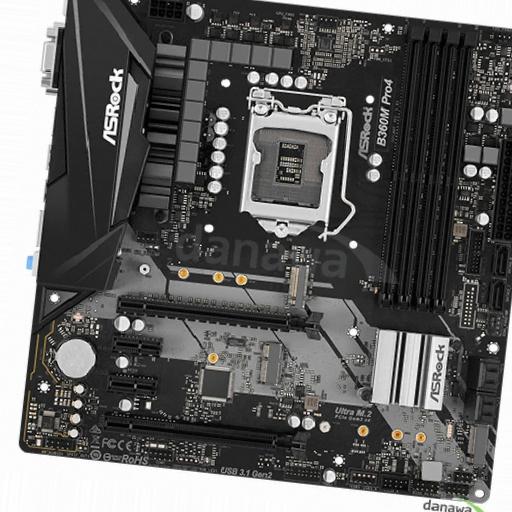CPU: (242, 87, 344, 241)
GPU: (103, 411, 310, 458), (116, 295, 322, 341)
MOTHERBOARD: (20, 1, 511, 502)
RAM: (376, 25, 477, 314)
SSD: (258, 343, 283, 385), (287, 263, 309, 307)
